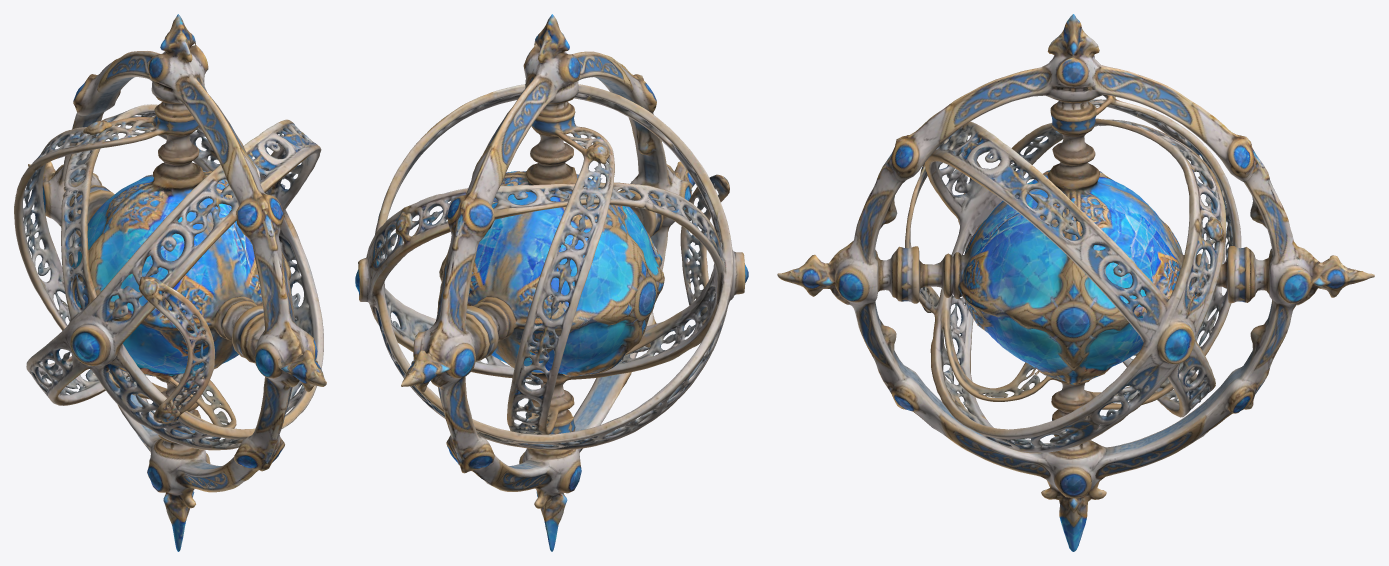
3 views of the same model, side by side, from view 1: azimuth 30°, elevation 25°; view 2: azimuth 150°, elevation 25°; view 3: azimuth 270°, elevation 25° (orthographic).
Visible parts, largest first — view 1: tripo_node_403e73e4-0526-4e6f-bf09-4a10d0ab84e1; view 2: tripo_node_403e73e4-0526-4e6f-bf09-4a10d0ab84e1; view 3: tripo_node_403e73e4-0526-4e6f-bf09-4a10d0ab84e1.
Part boxes in pixels (<box>): tripo_node_403e73e4-0526-4e6f-bf09-4a10d0ab84e1: <box>14,14,326,551</box>; tripo_node_403e73e4-0526-4e6f-bf09-4a10d0ab84e1: <box>355,14,748,551</box>; tripo_node_403e73e4-0526-4e6f-bf09-4a10d0ab84e1: <box>777,14,1374,551</box>.
Bounding box in the file's own units: 0.5556 × 0.9465 × 0.9527.
Materials: 1 (1 with a texture image).
